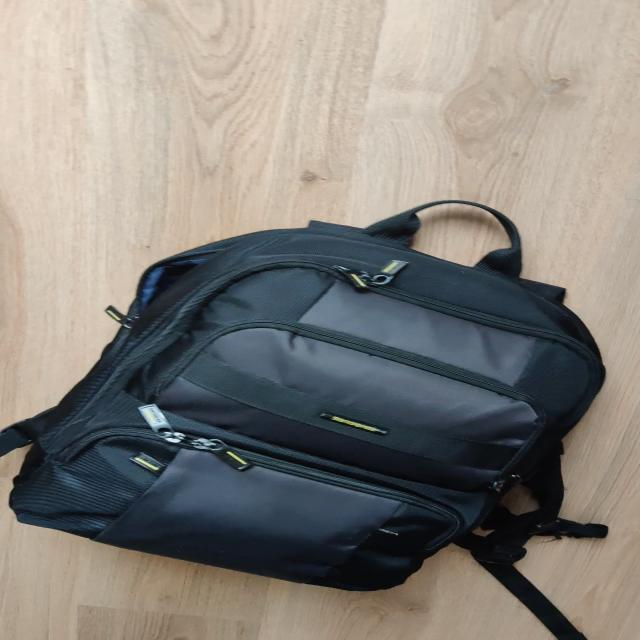backpack: (0, 195, 630, 599)
